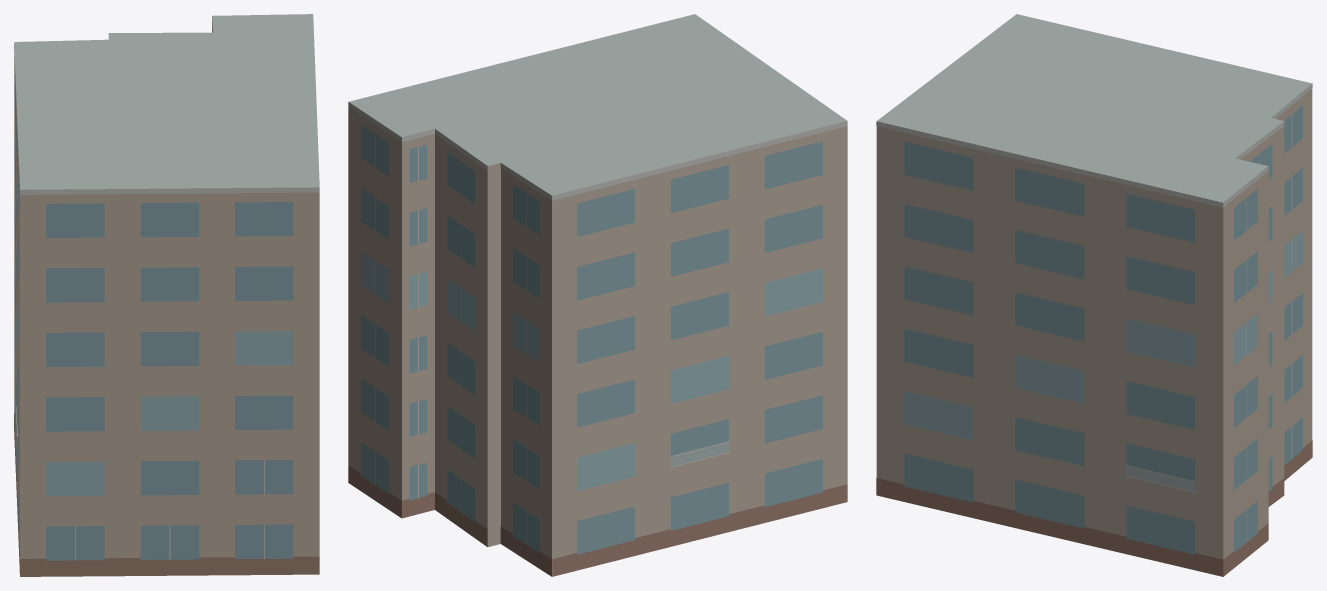
The model's file is survey-upis-32880909.glb.
The picture shows the model from 3 angles, left to right: view 1: azimuth 30°, elevation 25°; view 2: azimuth 150°, elevation 25°; view 3: azimuth 270°, elevation 25°; orthographic projection. The views are drawn at different scales.
Visible parts, largest first — view 1: survey-upis-32880909.tmp; view 2: survey-upis-32880909.tmp; view 3: survey-upis-32880909.tmp.
Boxes of the visible parts, box(x1,y1,x2,y2) form: survey-upis-32880909.tmp: box(14, 14, 319, 576); survey-upis-32880909.tmp: box(348, 14, 847, 576); survey-upis-32880909.tmp: box(876, 14, 1312, 576).
Bounding box in the file's own units: 19.91 × 18.4 × 19.43.
